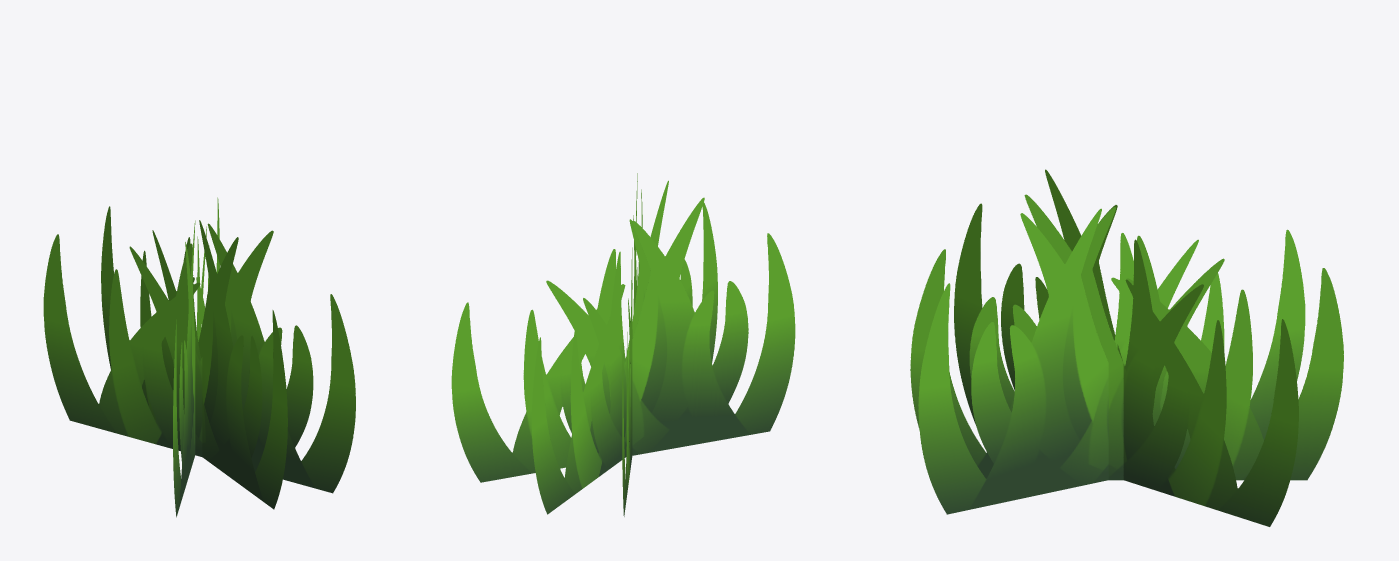
The model's file is grass.fbx.
The picture shows the model from 3 angles, left to right: view 1: azimuth 30°, elevation 25°; view 2: azimuth 150°, elevation 25°; view 3: azimuth 270°, elevation 25°; orthographic projection. The views are drawn at different scales.
Parts seen in each view (by area): view 1: mato; view 2: mato; view 3: mato.
Boxes of the visible parts, left/top/right/bottom form: mato: left=43, top=197, right=355, bottom=517; mato: left=451, top=173, right=795, bottom=516; mato: left=910, top=169, right=1343, bottom=526.
Bounding box in the file's own units: 71.75 × 100 × 119.
1 material, 1 textured.
